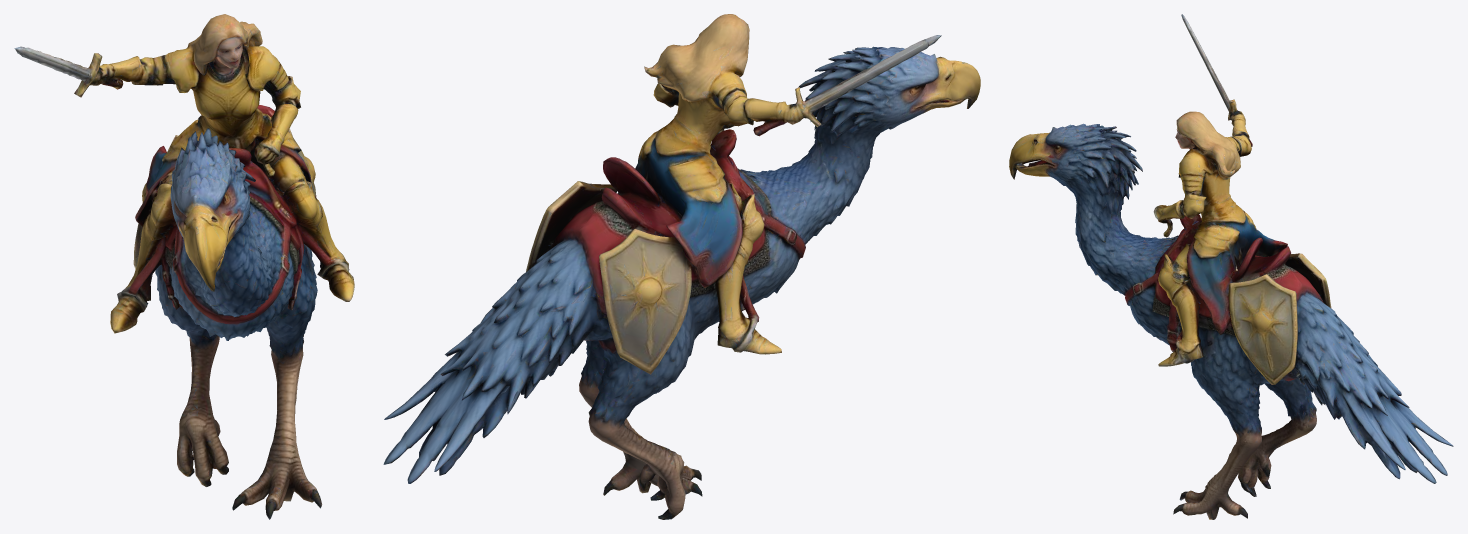
File: Regina Mounted_final.glb
3 renders of one model, left to right at view 1: azimuth 30°, elevation 25°; view 2: azimuth 150°, elevation 25°; view 3: azimuth 270°, elevation 25°, orthographic. The views are drawn at different scales.
Visible parts, largest first — view 1: Mesh_0; view 2: Mesh_0; view 3: Mesh_0.
Boxes of the visible parts, left/top/right/bottom form: Mesh_0: left=14, top=14, right=354, bottom=519; Mesh_0: left=383, top=14, right=980, bottom=519; Mesh_0: left=1009, top=14, right=1453, bottom=519.
Bounding box in the file's own units: 2.13 × 2.5 × 2.53.
1 material, 1 textured.
